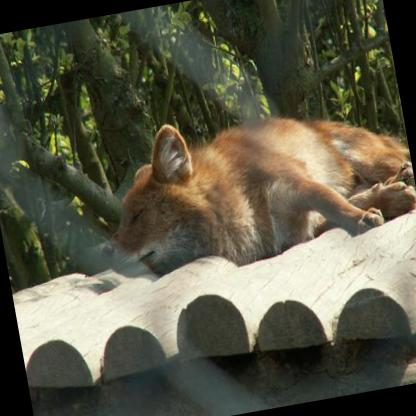dhole: (79, 79, 416, 289)
